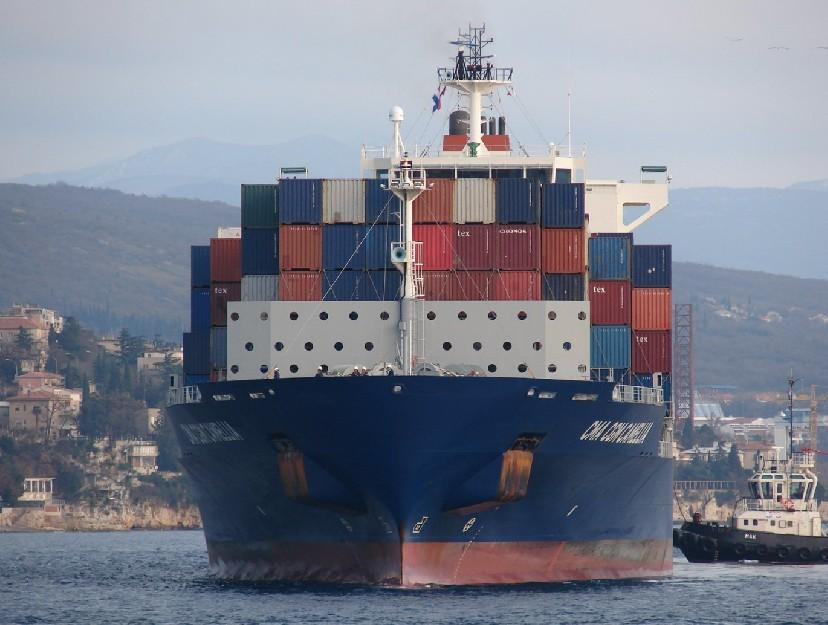Cargoship: (166, 20, 681, 596)
otherboat: (670, 374, 828, 567)
